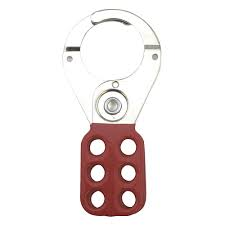hasp: (63, 9, 163, 217)
